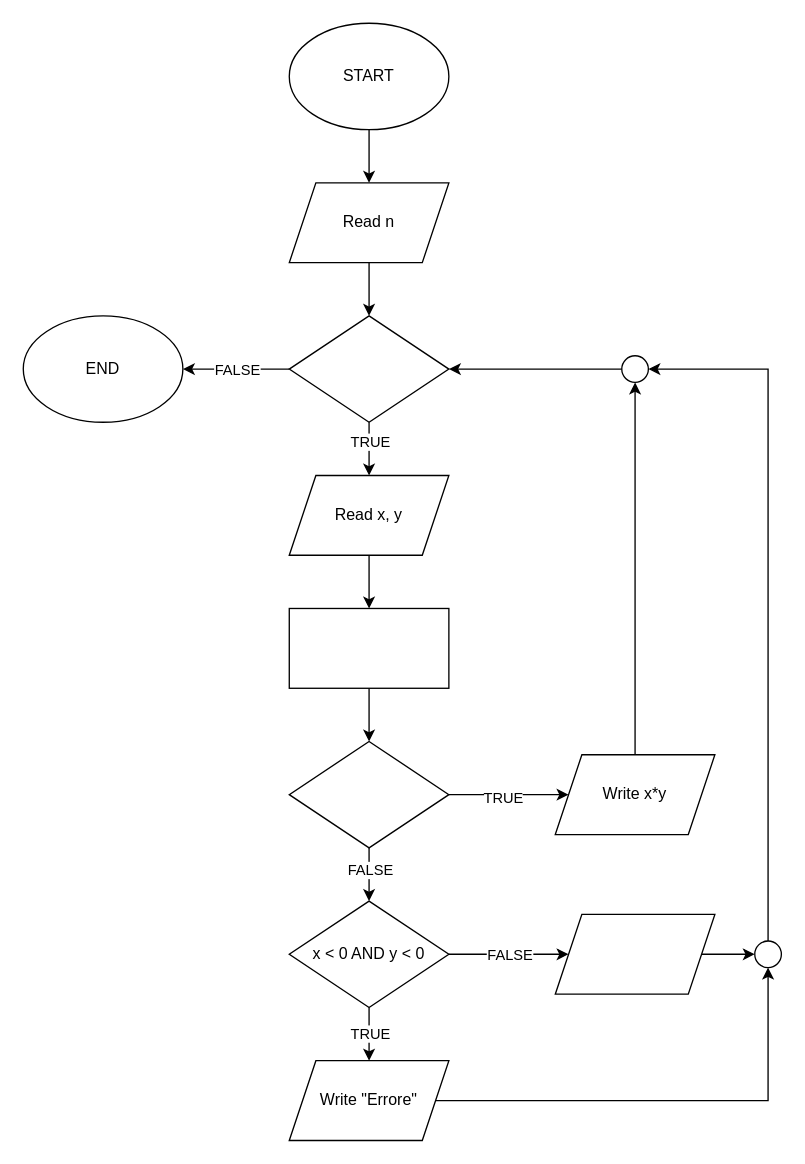
Image size: 805x1164. Some labels were removed from this diagram. The centre of each missing label's shape, as x and y in pixels:
"n -= 1" goes at (368,647).
"n > 0" goes at (368,368).
"Write x+y" goes at (634,953).
"x > 0 AND y > 0" goes at (368,794).
